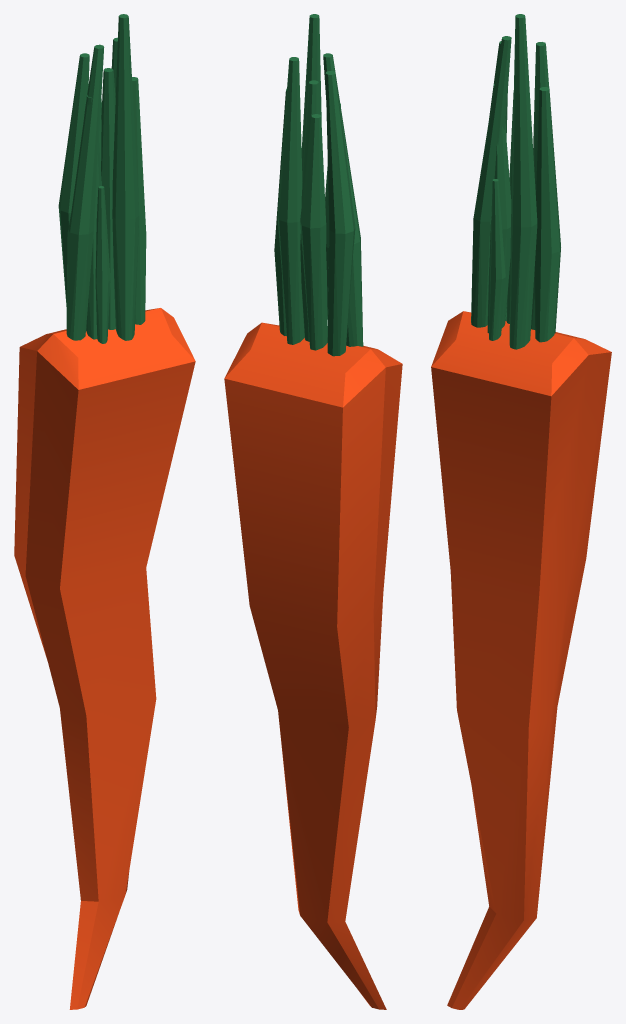
File: raddish.FBX
3 renders of one model, left to right at view 1: azimuth 30°, elevation 25°; view 2: azimuth 150°, elevation 25°; view 3: azimuth 330°, elevation 25°, orthographic. The views are drawn at different scales.
Parts seen in each view (by area): view 1: raddish; view 2: raddish; view 3: raddish.
Part boxes in pixels (<box>): raddish: <box>14,14,195,1009</box>; raddish: <box>224,14,402,1009</box>; raddish: <box>431,14,611,1009</box>.
Bounding box in the file's own units: 0.0458 × 0.3108 × 0.0374.
Materials: 1 (1 with a texture image).
